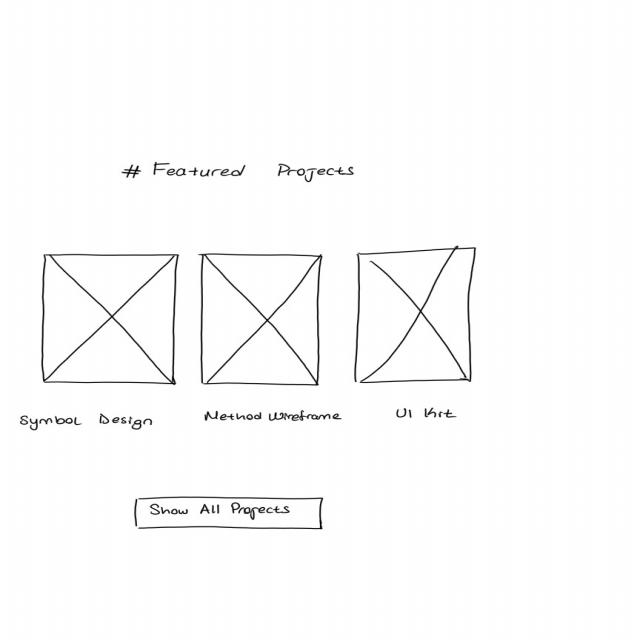button: (132, 496, 326, 533)
image: (41, 254, 180, 387), (354, 247, 479, 387), (200, 252, 324, 388)
label: (123, 161, 356, 184), (20, 415, 155, 432), (204, 410, 344, 424), (396, 407, 459, 421)
